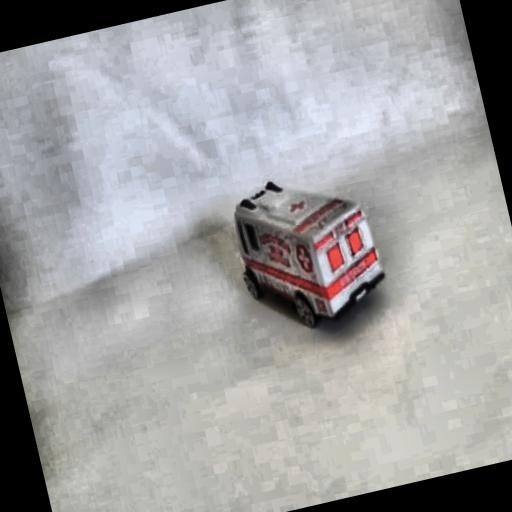ambulance: (222, 160, 393, 342)
